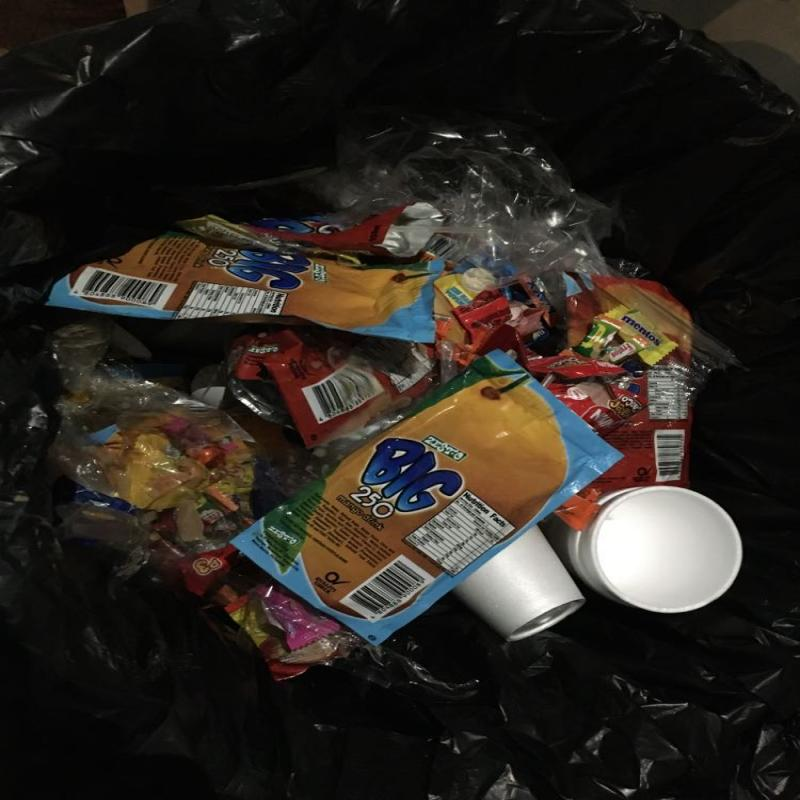food wrapper: (229, 349, 624, 645), (49, 231, 445, 342), (226, 325, 443, 444), (589, 363, 695, 498), (229, 202, 445, 257), (253, 579, 342, 649), (604, 305, 677, 364), (526, 351, 626, 380), (574, 314, 625, 359)
styrofoam containers: (569, 486, 742, 614), (454, 526, 586, 642)
